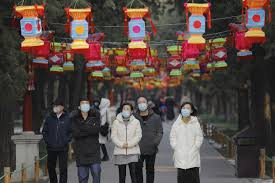mask: (50, 97, 64, 114), (136, 95, 149, 112), (178, 101, 191, 118), (79, 98, 90, 113), (121, 102, 132, 117), (93, 100, 99, 107)
